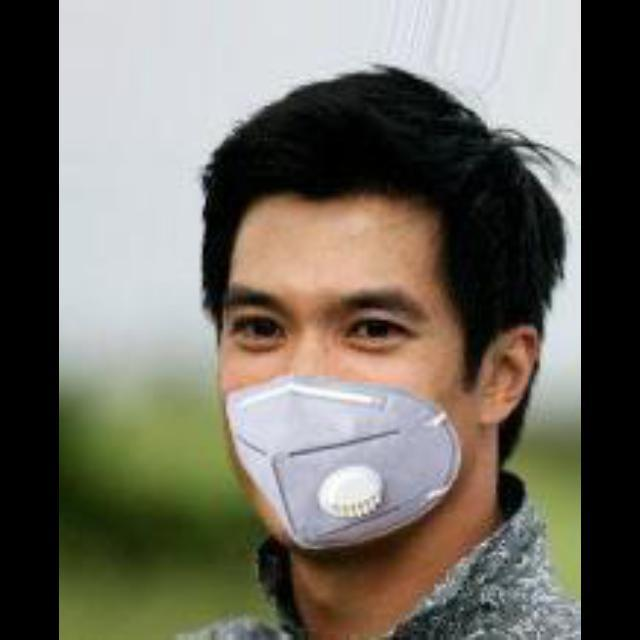suspicion: (172, 100, 538, 572)
